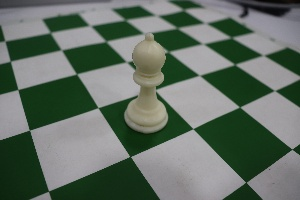white_bishop: (120, 23, 175, 138)
